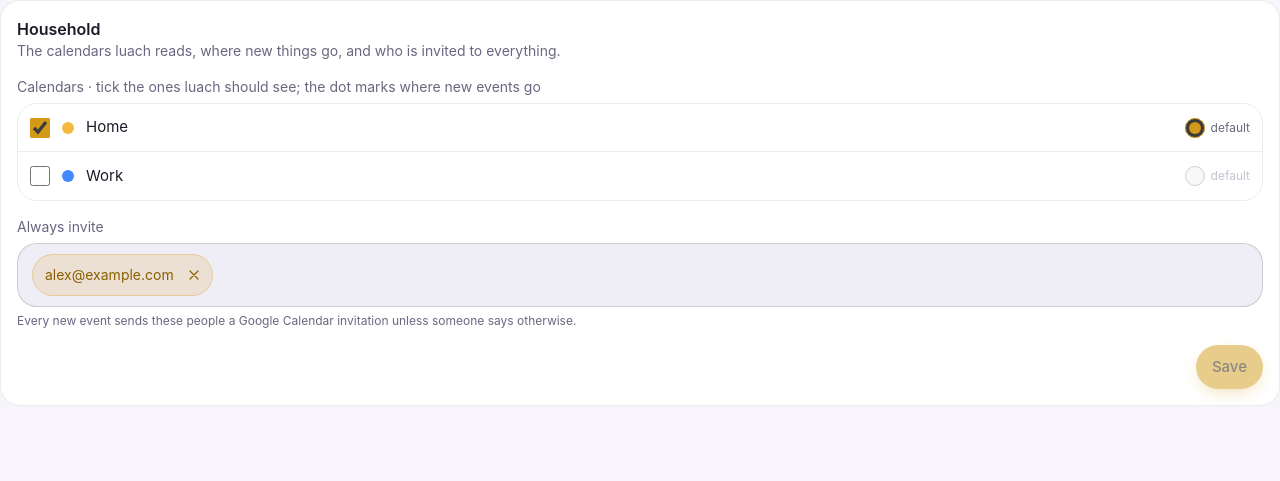
the household’s own settings › shows the server’s refusal
expect the text "Work" is shown: met, box 86,166 -> 123,185
What coordinates should you click on to do the following:
click the checkbox named "Use Work"
I would click on:
 (40, 176)
Its box is 30,166 -> 50,186.
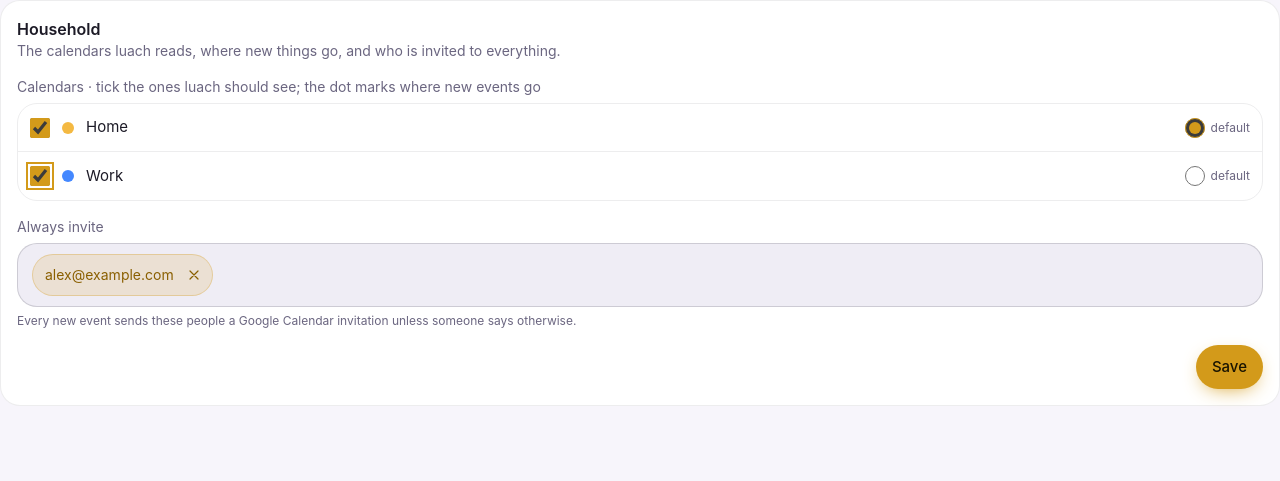
What coordinates should you click on to do the following:
click the button "Save"
I would click on:
 (1229, 367)
Its box is 1196,345 -> 1263,389.
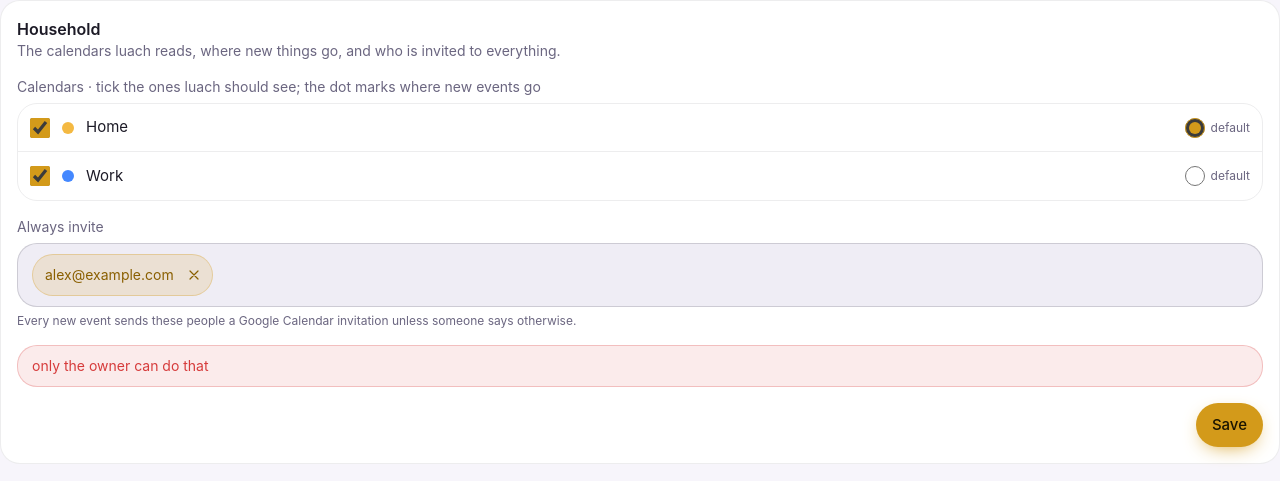
expect the text "only the owner can do that" is shown: met, box 17,345 -> 1263,387
